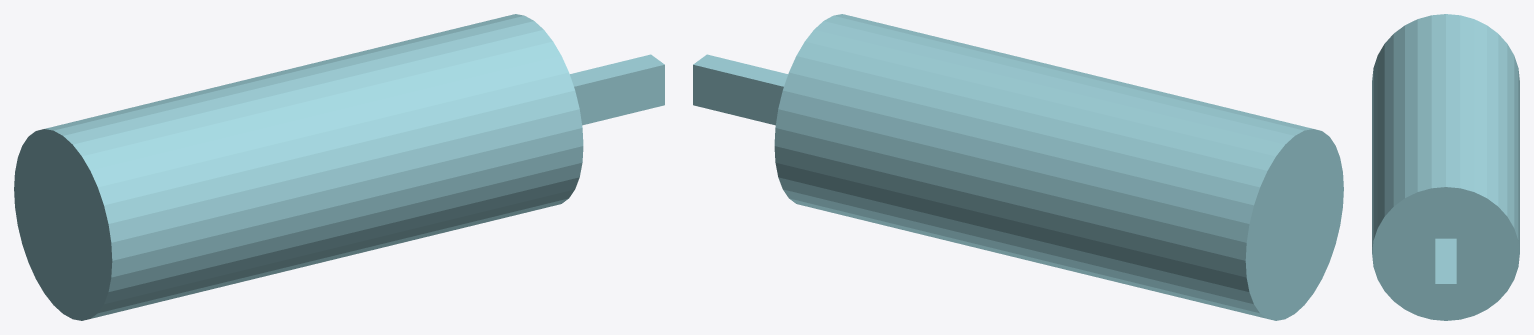
Rendered from cylinder_marker_v4005.obj.
3 views of the same model, side by side, from view 1: azimuth 30°, elevation 25°; view 2: azimuth 150°, elevation 25°; view 3: azimuth 270°, elevation 25° (orthographic). The views are drawn at different scales.
Size of the model in its own units: 0.1365 by 0.0391 by 0.0391.
1 material, 1 textured.
